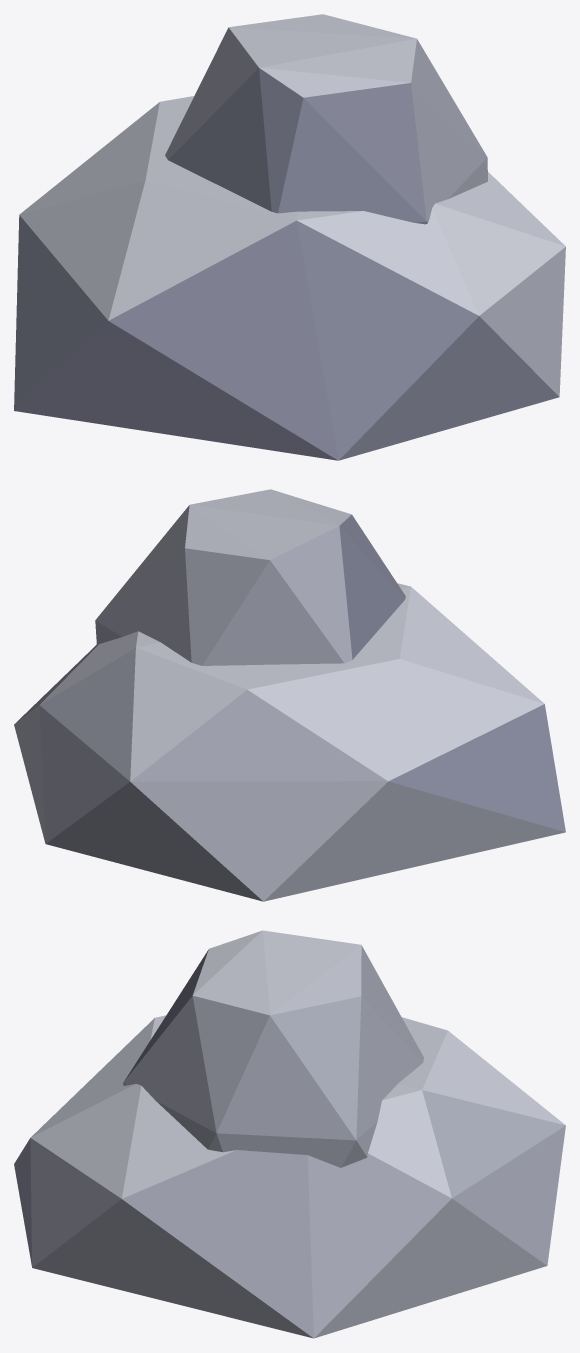
Rendered from stone_smallTopA.glb.
The picture shows the model from 3 angles, top to bottom: view 1: azimuth 30°, elevation 25°; view 2: azimuth 150°, elevation 25°; view 3: azimuth 270°, elevation 25°; orthographic projection. The views are drawn at different scales.
Parts seen in each view (by area): view 1: stone_smallTopA; view 2: stone_smallTopA; view 3: stone_smallTopA.
Part boxes in pixels (x1,y1,x2,y2): stone_smallTopA: [14, 14, 565, 460]; stone_smallTopA: [14, 489, 565, 901]; stone_smallTopA: [14, 930, 565, 1338].
Size of the model in its own units: 0.4596 by 0.2125 by 0.411.
Materials: 1 (1 with a texture image).
